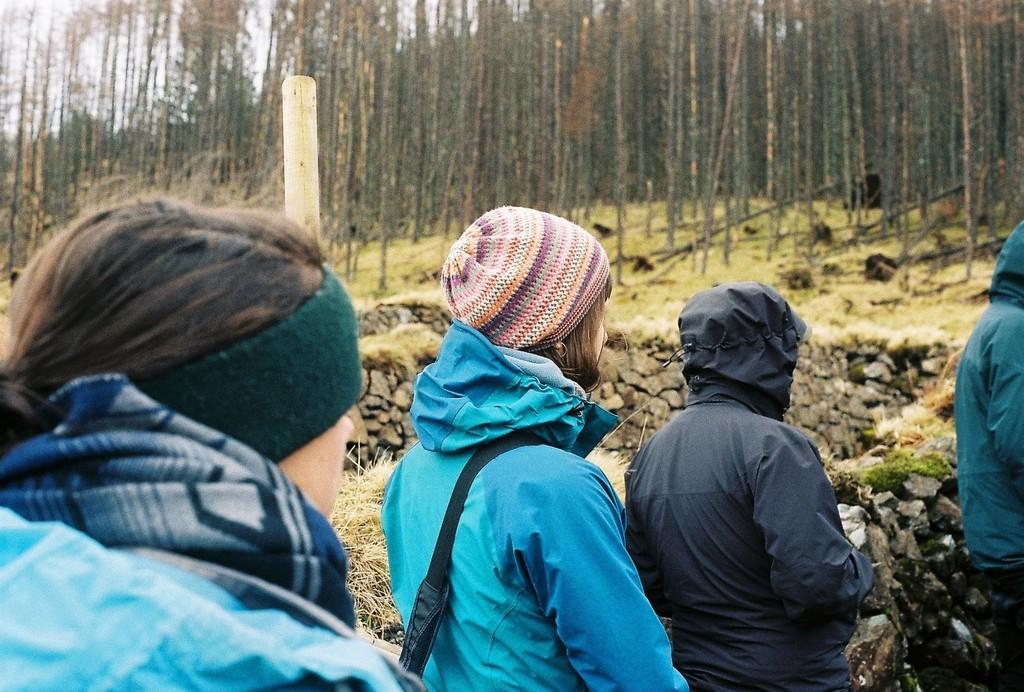Sem Máscara: (276, 413, 355, 520)
